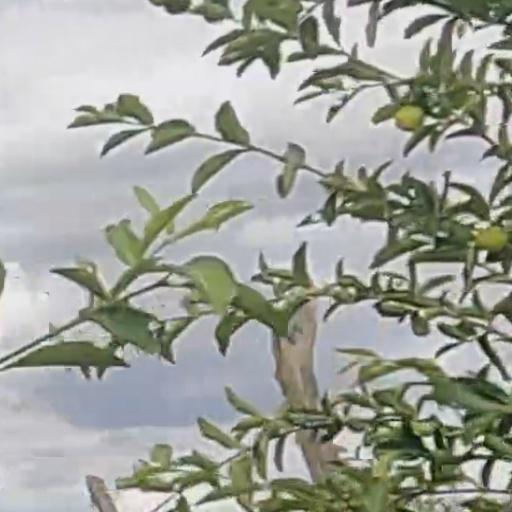acerola: (398, 107, 421, 130)
